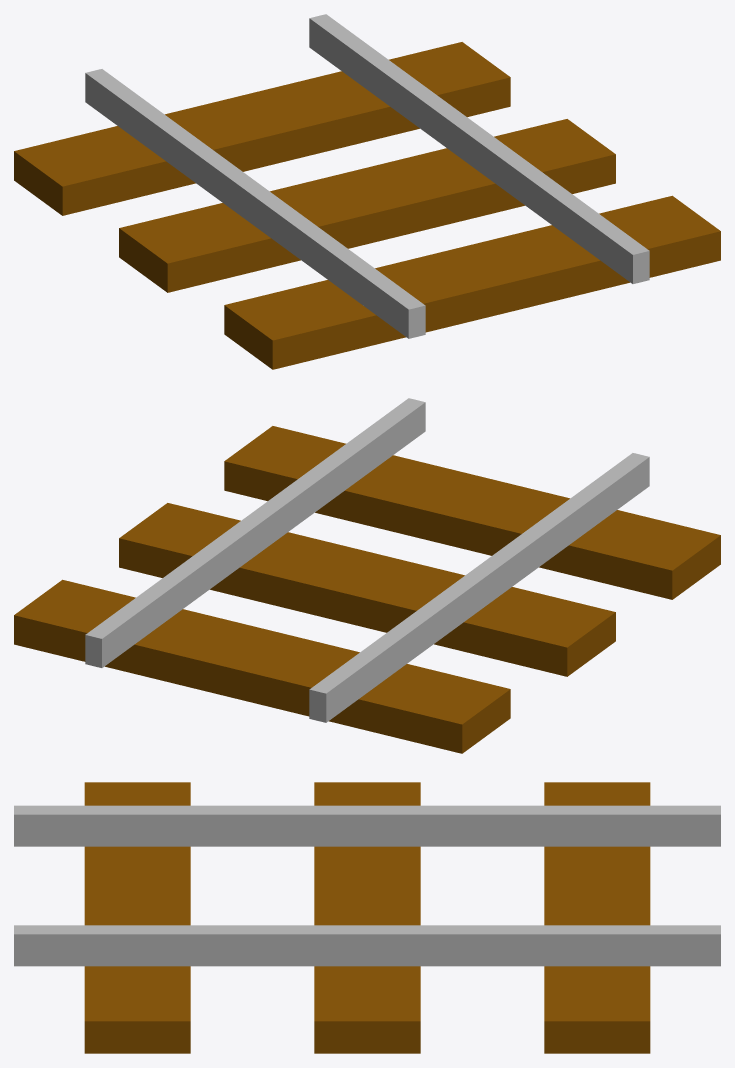
The model's file is TrainTrack.fbx.
3 renders of one model, top to bottom at view 1: azimuth 30°, elevation 25°; view 2: azimuth 150°, elevation 25°; view 3: azimuth 270°, elevation 25°, orthographic. The views are drawn at different scales.
Parts seen in each view (by area): view 1: pCube6; view 2: pCube6; view 3: pCube6.
Boxes of the visible parts, x1,y1,x2,y2 form: pCube6: [14, 14, 720, 369]; pCube6: [14, 398, 720, 753]; pCube6: [14, 782, 720, 1053].
Size of the model in its own units: 8 by 1 by 10.
